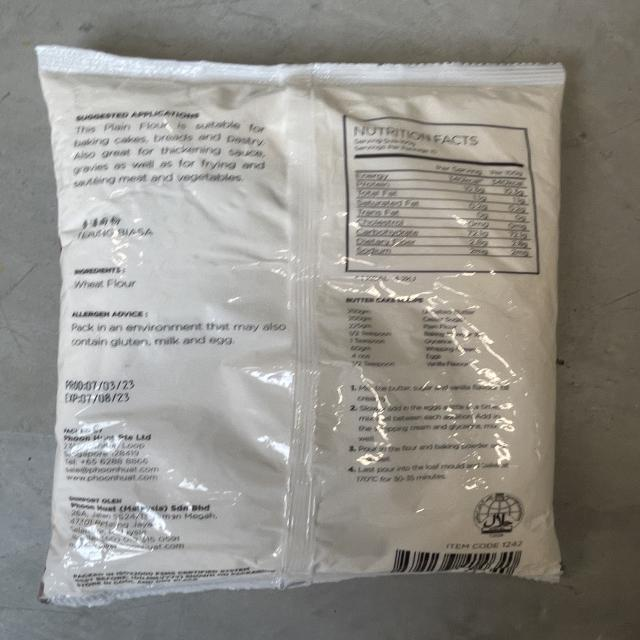object_name: (50, 56, 548, 580)
